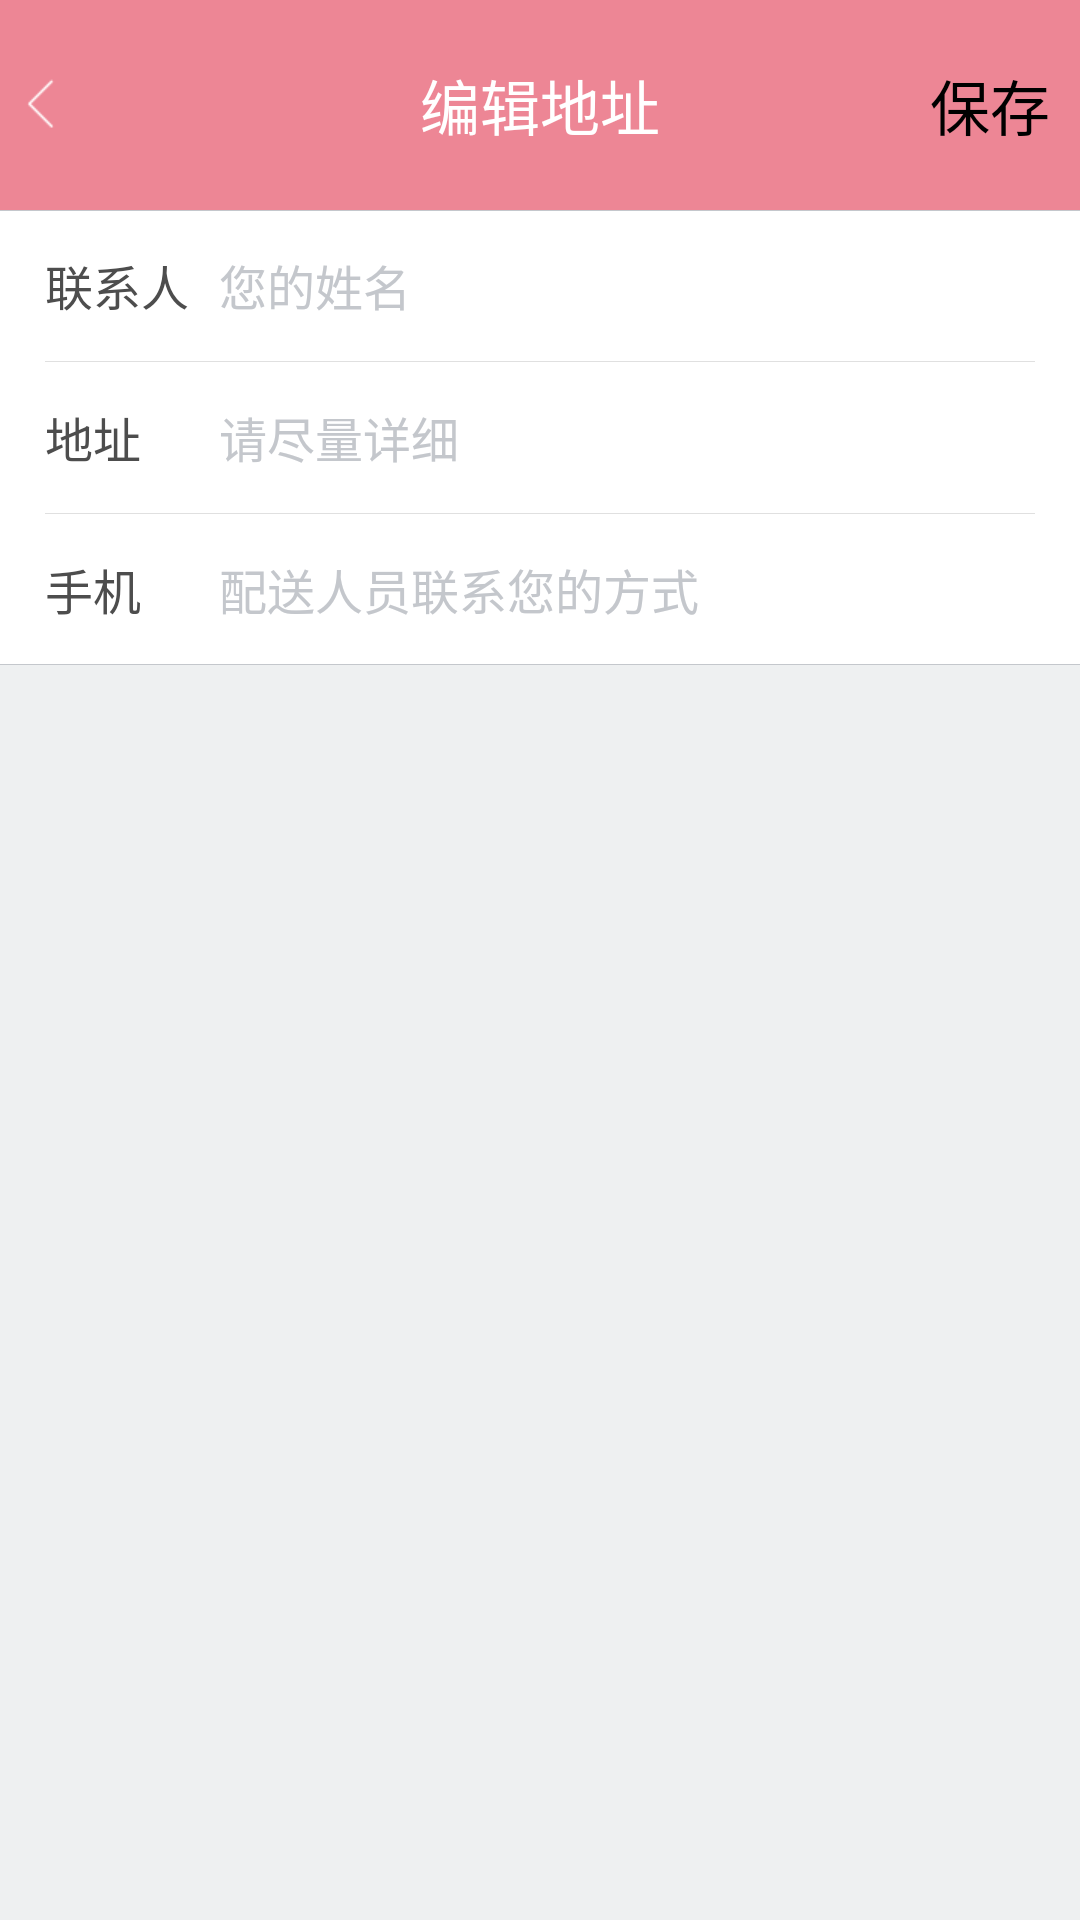

Named icons in this screenshot (1080 x 1920) and their bounding boxes, box=[x1, y1, x2, y2]:
back: box=[28, 80, 53, 128]
